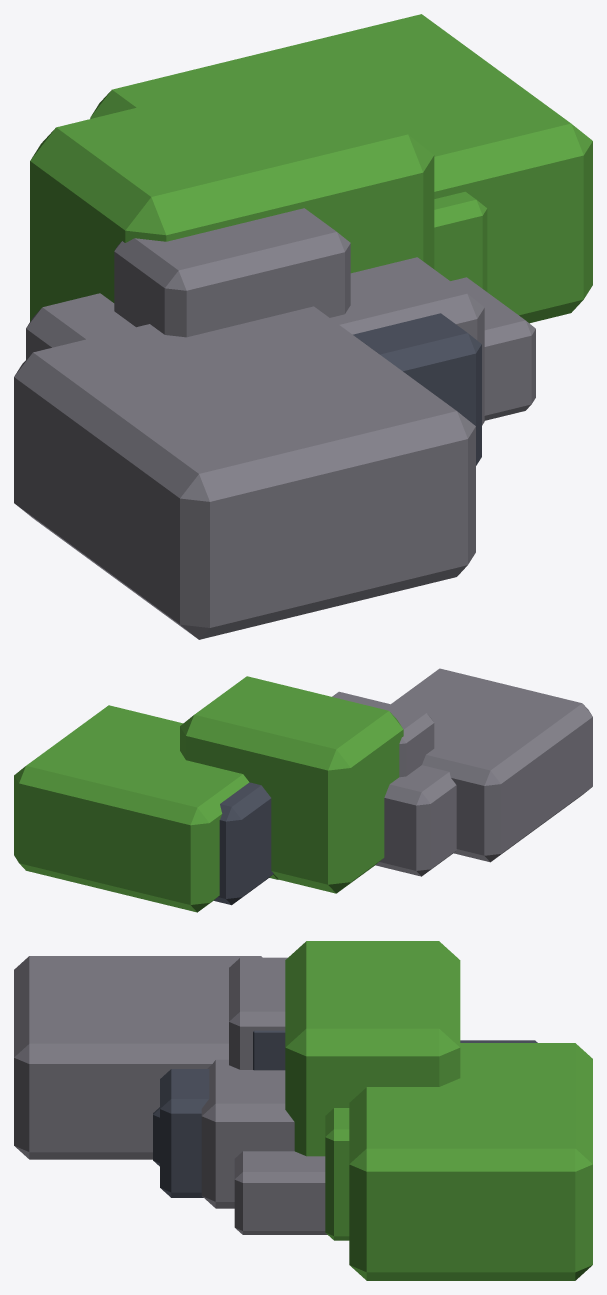
File: flagship_props_034.glb
3 renders of one model, top to bottom at view 1: azimuth 30°, elevation 25°; view 2: azimuth 150°, elevation 25°; view 3: azimuth 270°, elevation 25°, orthographic. The views are drawn at different scales.
Visible parts, largest first — view 1: Prop_Island_Boulder_K11V1, Prop_Island_Boulder_K11V0; view 2: Prop_Island_Boulder_K11V1, Prop_Island_Boulder_K11V0; view 3: Prop_Island_Boulder_K11V1, Prop_Island_Boulder_K11V0.
Boxes of the visible parts, <box> form: Prop_Island_Boulder_K11V1: <box>14,14,592,639</box>; Prop_Island_Boulder_K11V0: <box>114,191,535,465</box>; Prop_Island_Boulder_K11V1: <box>14,668,592,912</box>; Prop_Island_Boulder_K11V0: <box>269,691,434,879</box>; Prop_Island_Boulder_K11V1: <box>14,941,592,1280</box>; Prop_Island_Boulder_K11V0: <box>153,957,349,1240</box>.
Size of the model in its own units: 2.01 by 0.765 by 2.21.
